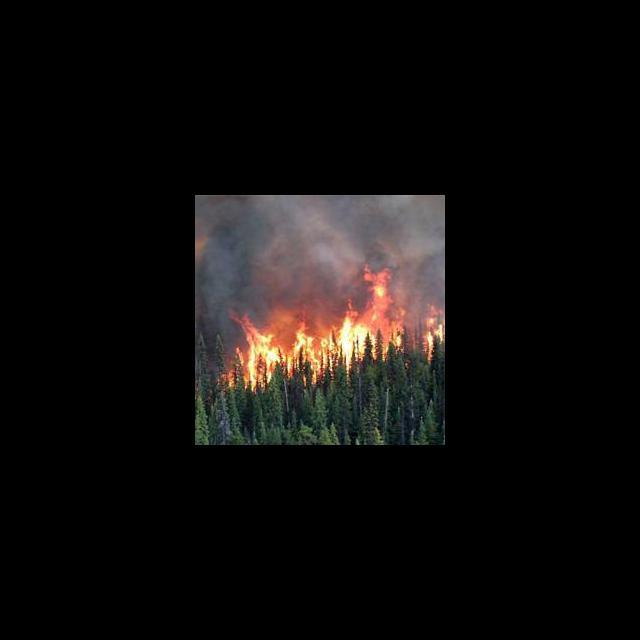Fire: (214, 259, 444, 391)
